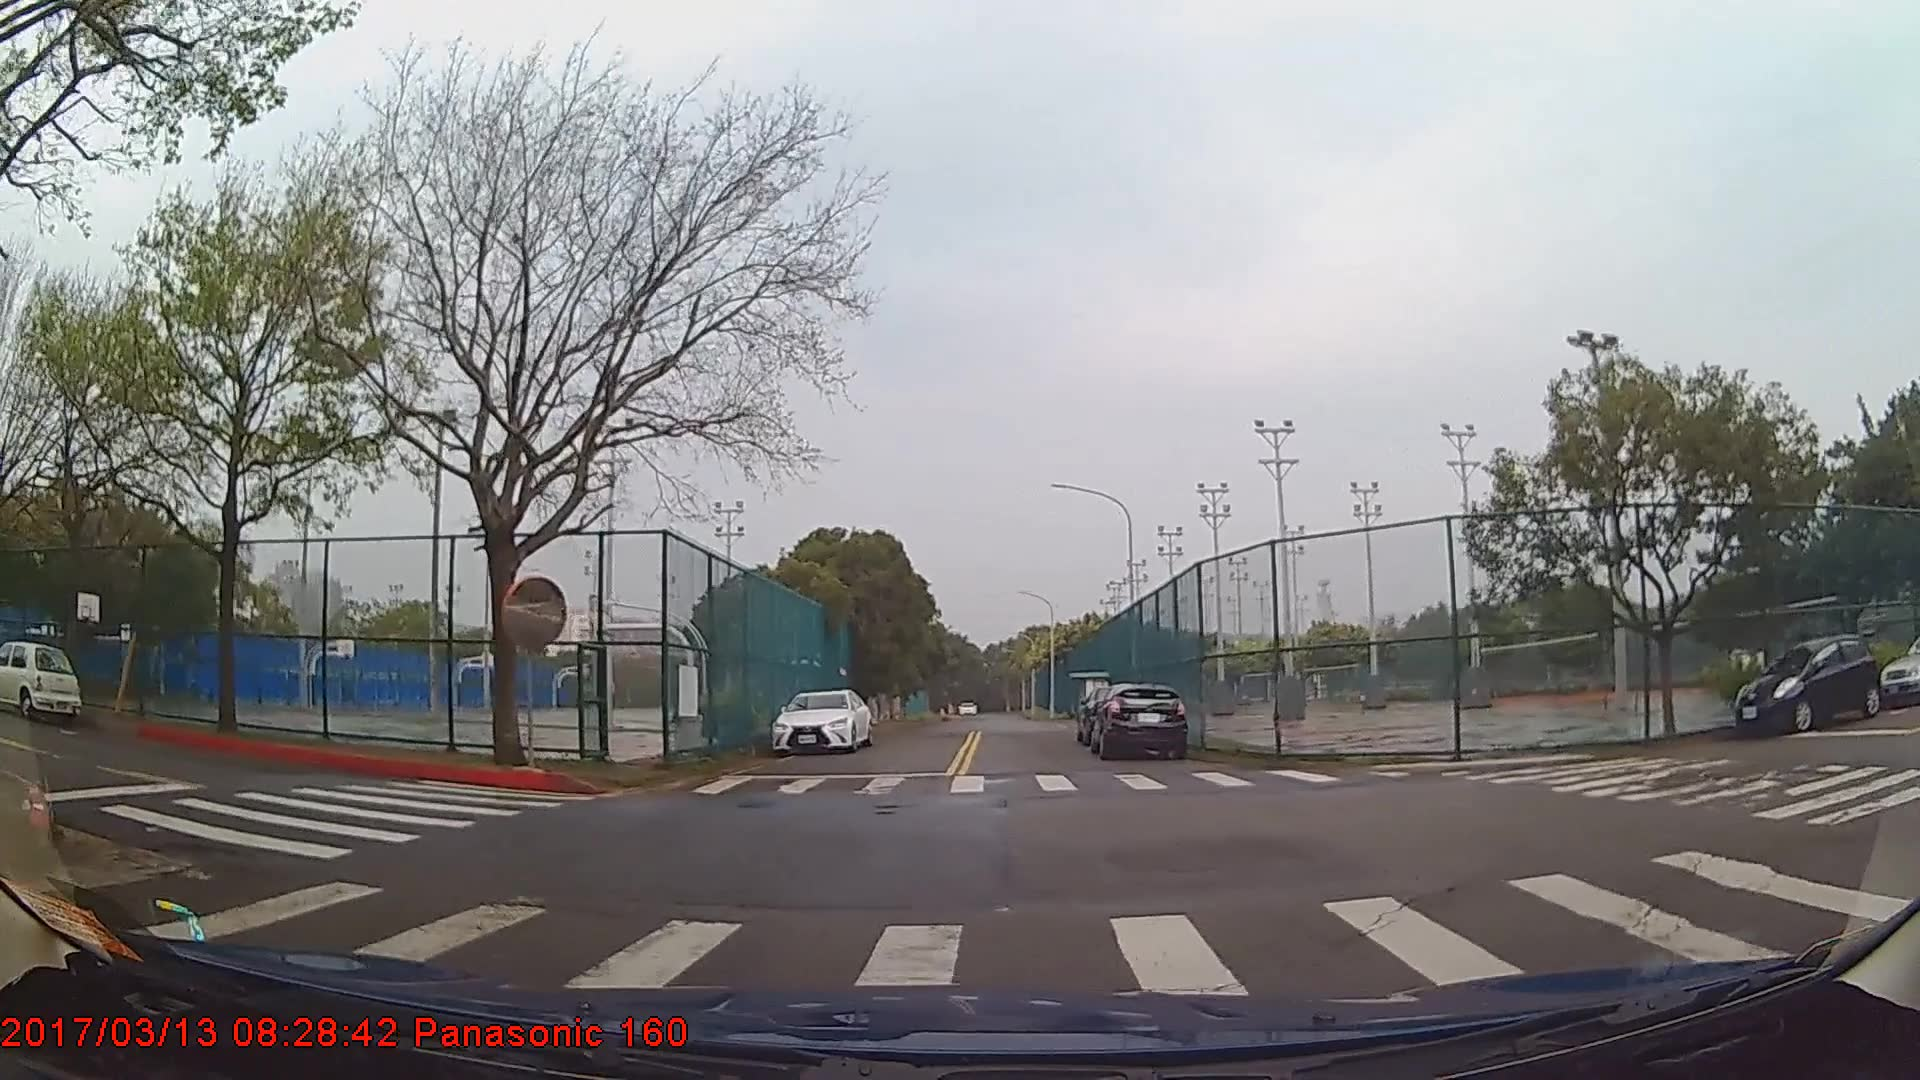vehicle: (1734, 633, 1883, 732), (1092, 680, 1189, 760), (0, 637, 84, 721), (774, 684, 874, 754)
